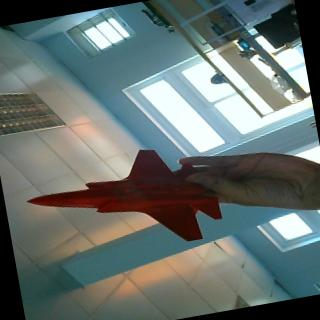Jet: (14, 136, 228, 270)
